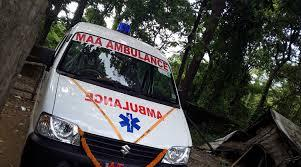Emergency-Vehicles: (24, 6, 203, 167)
